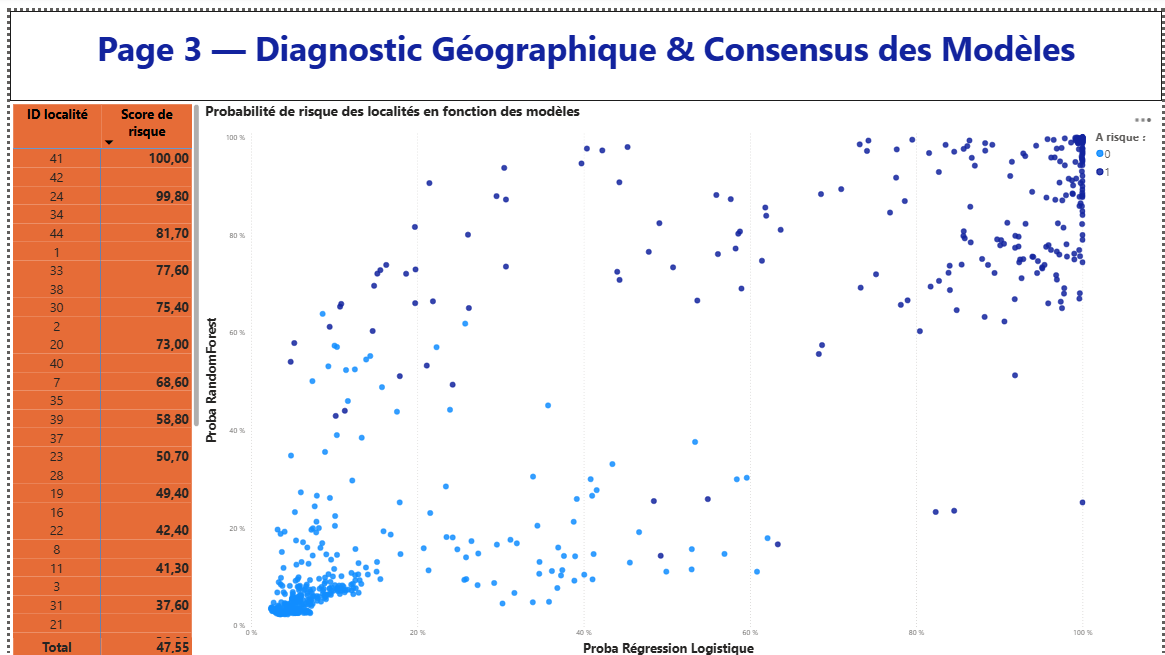

The dashboard page shown, as its layout file describes it:
{"tool":"powerbi","page":{"name":"Page 3","canvas":[1920,1080],"ordinal":2},"visuals":[{"type":"scatterChart","title":"Probabilité de risque des localités en fonction des modèles","fields":{"Series":["public vw_audit_master.risk_target"],"X":["Avg(public vw_audit_master.proba_logreg)"],"Y":["public vw_audit_master.proba_rf"]},"box":[320,150,1600,930],"z":0},{"type":"pivotTable","fields":{"Rows":["public vw_audit_kpis_zone.location_id","public vw_audit_master.rang_priorite"],"Values":["Avg(public vw_audit_kpis_zone.score_risque_moyen_pct)"]},"box":[0,150,320,930],"z":1},{"type":"textbox","box":[0,0,1920.1,148.8],"z":2}]}

Visuals, with their boxes in screenshot pixels (x1, y1, x2, y2), scaled from the page's 1920x1080 canvas onto the 1165x655 screenshot:
"Probabilité de risque des localités en fonction des modèles" scatterChart: [x1=194, y1=91, x2=1164, y2=654]
pivotTable - public vw_audit_kpis_zone.location_id x public vw_audit_master.rang_priorite: [x1=0, y1=91, x2=194, y2=654]
textbox: [x1=0, y1=0, x2=1164, y2=90]
